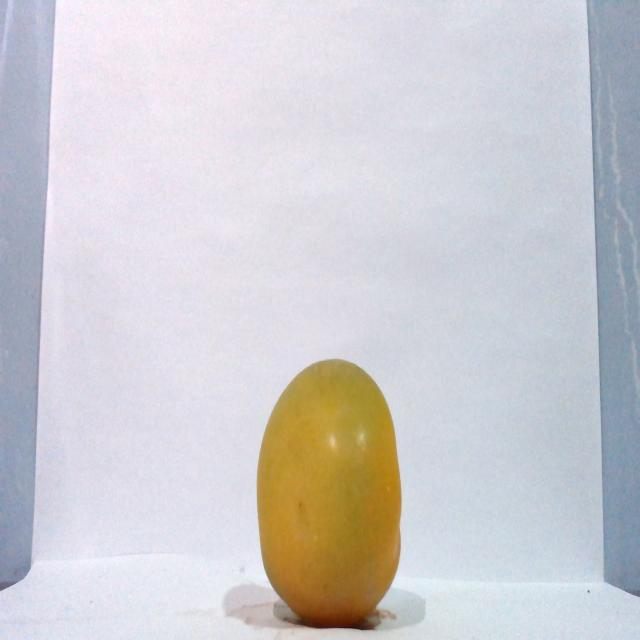Red: (254, 356, 403, 627)
